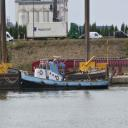tugboat: (19, 39, 118, 94)
